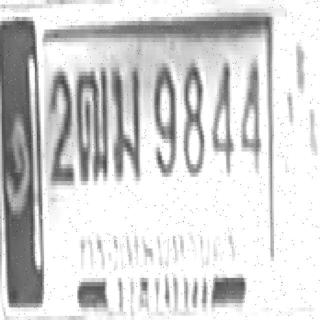A18: (74, 65, 106, 179)
A33: (110, 65, 140, 179)
N02: (48, 67, 72, 181)
N04: (210, 59, 233, 173), (239, 59, 261, 173)
N08: (182, 59, 204, 173)
N09: (153, 59, 175, 173)
P04: (75, 217, 240, 278)
